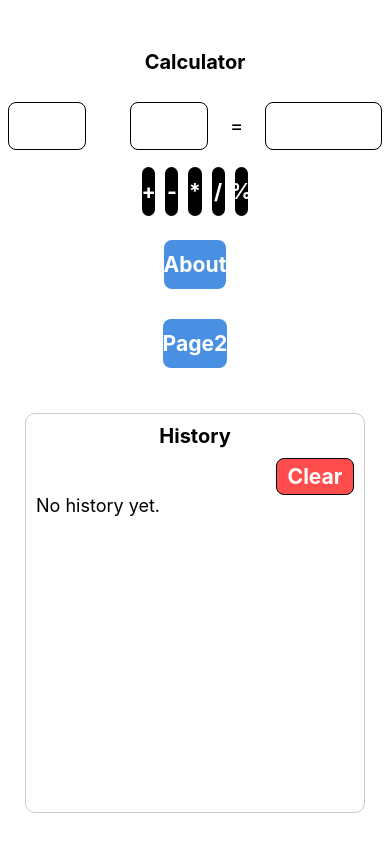
Scenario: ทดสอบหน้าจอ App หลัก › ควรล้างประวัติได้เมื่อกดปุ่ม Clear
Note: สร้างประวัติจำลองก่อน โดยกดคำนวณ 1 ครั้ง
Type "5" into the 1st field at (47, 126), box 8,102 -> 86,150
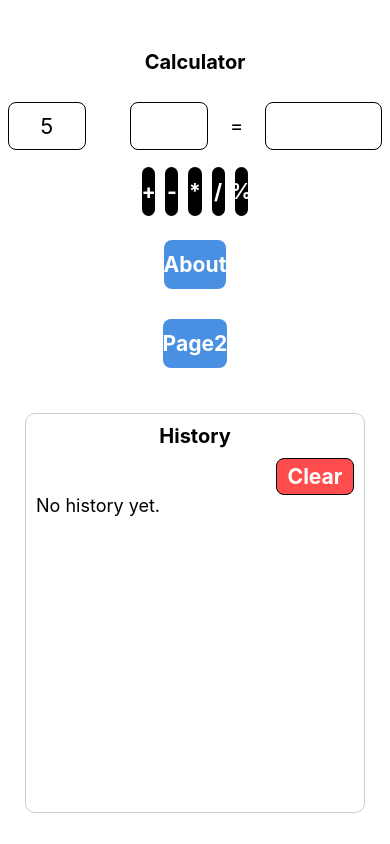
Type "5" into the 2nd field at (169, 126), box 130,102 -> 208,150
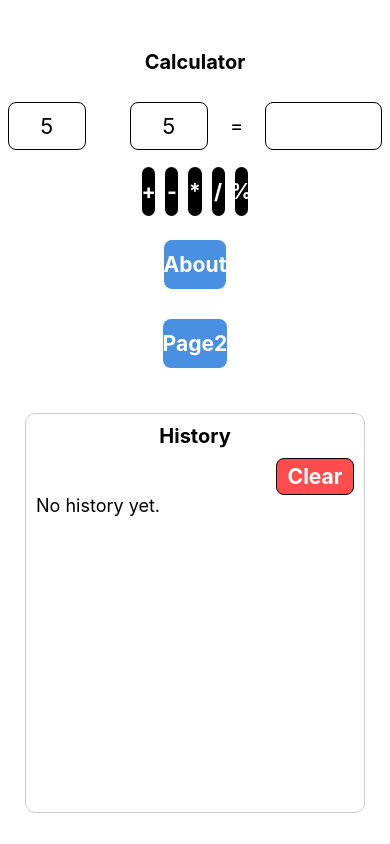
Click the text "+" at (149, 192), box 142,179 -> 156,204
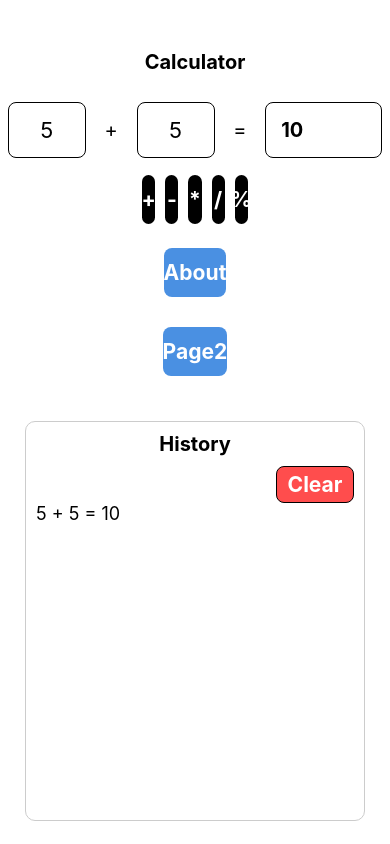
Expected: the text "5 + 5 = 10" is shown, 36,503 -> 120,524
Note: จำลองการกดปุ่ม Clear
Click the text "Clear" at (315, 484), box 288,472 -> 342,497
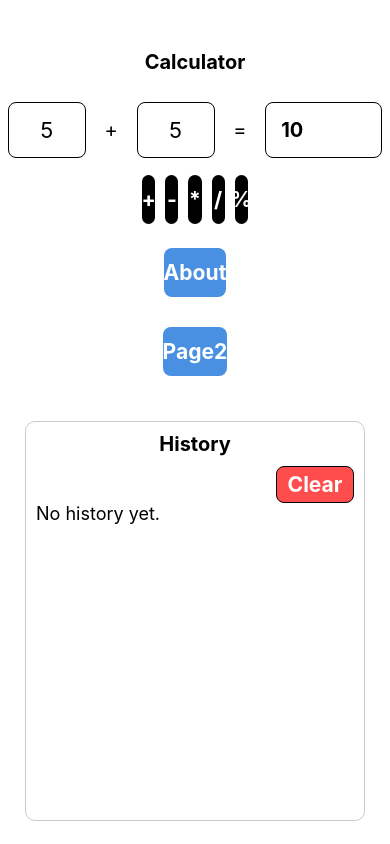
Expected: the text "No history yet." is shown, 36,503 -> 160,524
